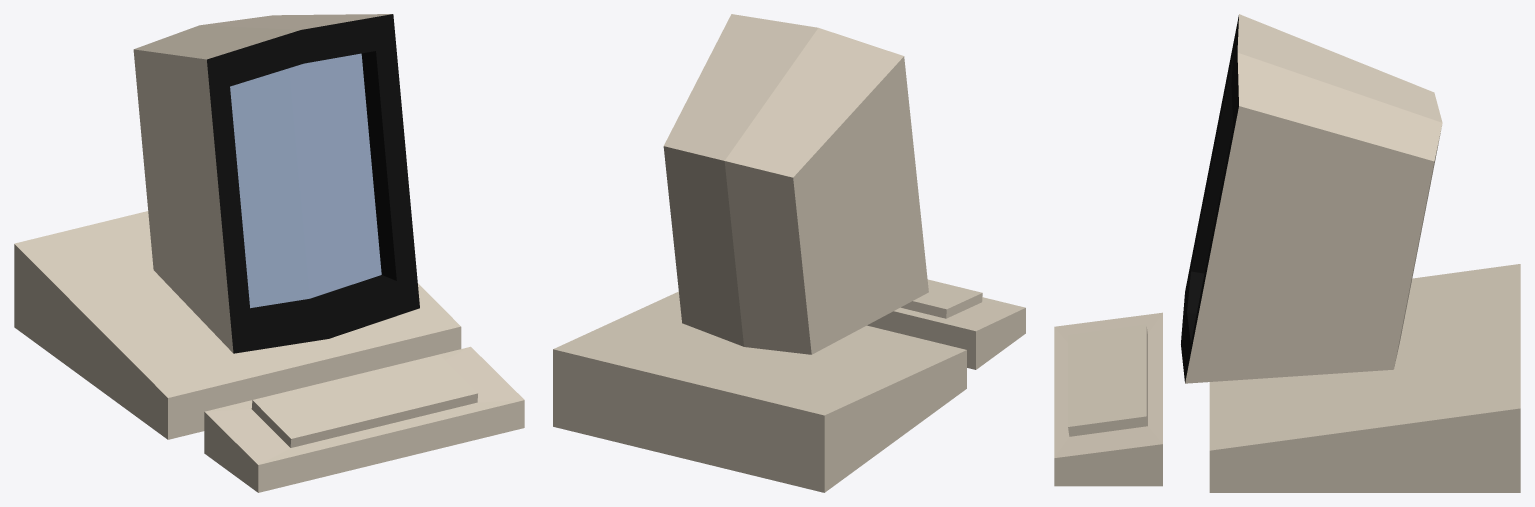
The model's file is XeroxAlto.fbx.
3 views of the same model, side by side, from view 1: azimuth 30°, elevation 25°; view 2: azimuth 150°, elevation 25°; view 3: azimuth 270°, elevation 25° (orthographic). The views are drawn at different scales.
Visible parts, largest first — view 1: Cube, Cube.002, Cube.001; view 2: Cube, Cube.002, Cube.001; view 3: Cube, Cube.002, Cube.001.
Part boxes in pixels (bbox=[...]): Cube: bbox=[133, 14, 419, 353]; Cube.002: bbox=[14, 211, 461, 439]; Cube.001: bbox=[204, 346, 524, 492]; Cube: bbox=[663, 14, 928, 354]; Cube.002: bbox=[553, 291, 966, 492]; Cube.001: bbox=[867, 279, 1025, 369]; Cube: bbox=[1181, 14, 1442, 383]; Cube.002: bbox=[1209, 264, 1520, 492]; Cube.001: bbox=[1054, 312, 1162, 486].
Size of the model in its own units: 220 by 261 by 300.
